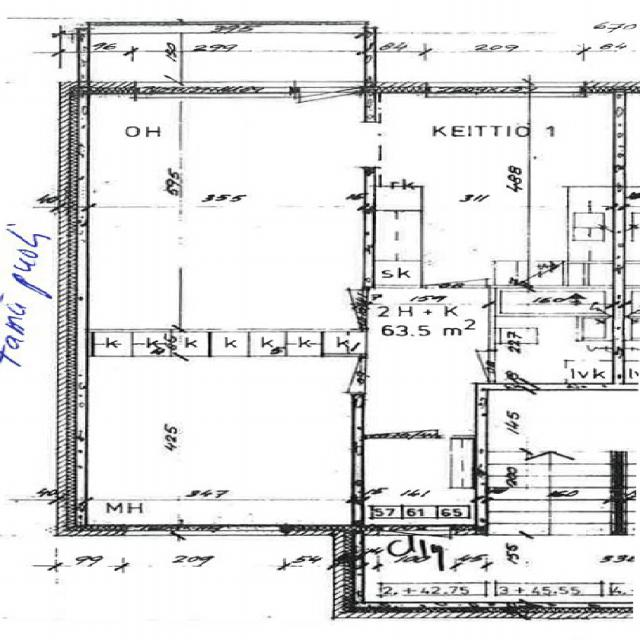door: (380, 525, 451, 573), (295, 82, 361, 133), (292, 289, 368, 328), (371, 399, 438, 438), (298, 358, 368, 392), (425, 252, 487, 288), (432, 351, 496, 382)
